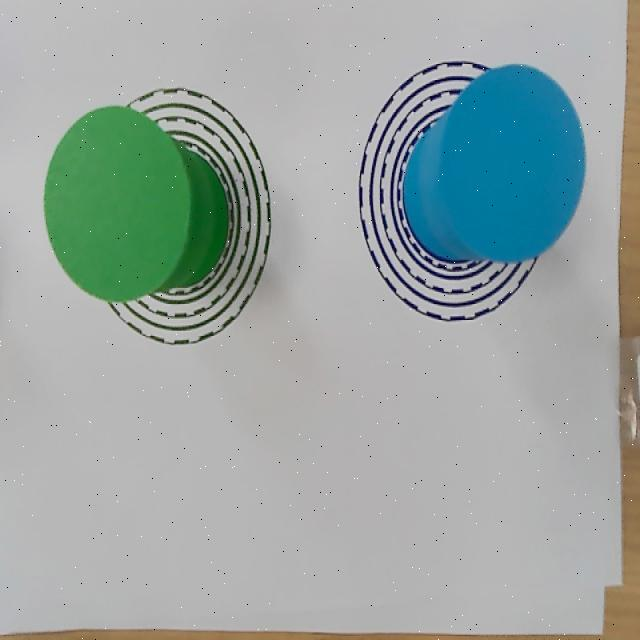b: (441, 64, 587, 262)
g: (43, 105, 191, 301)
